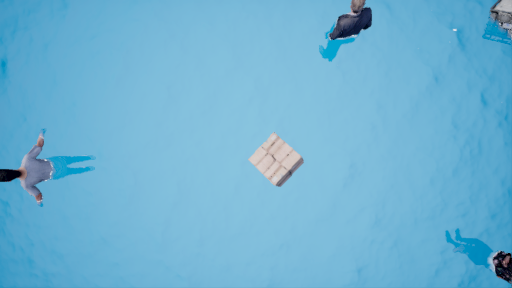person: (1, 131, 109, 205), (324, 2, 378, 68)
